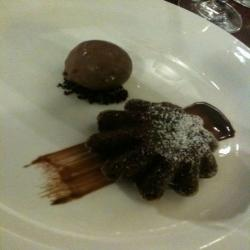icecream: (49, 29, 142, 103)
